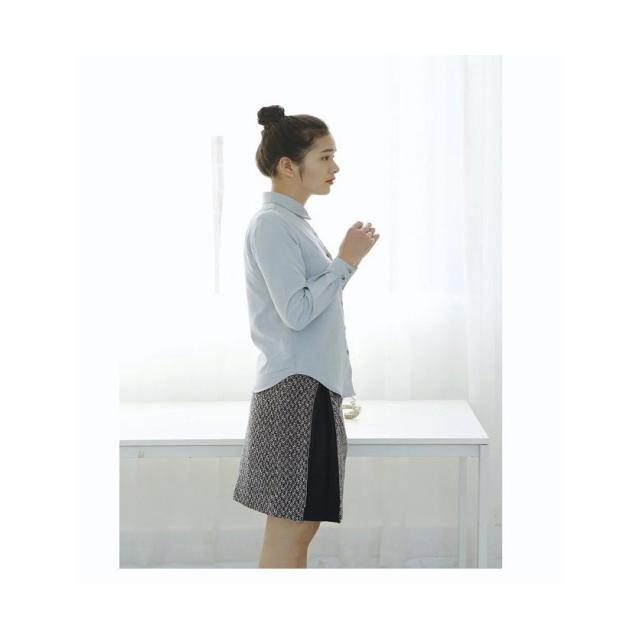long-sleeve-dress: (227, 190, 378, 526)
